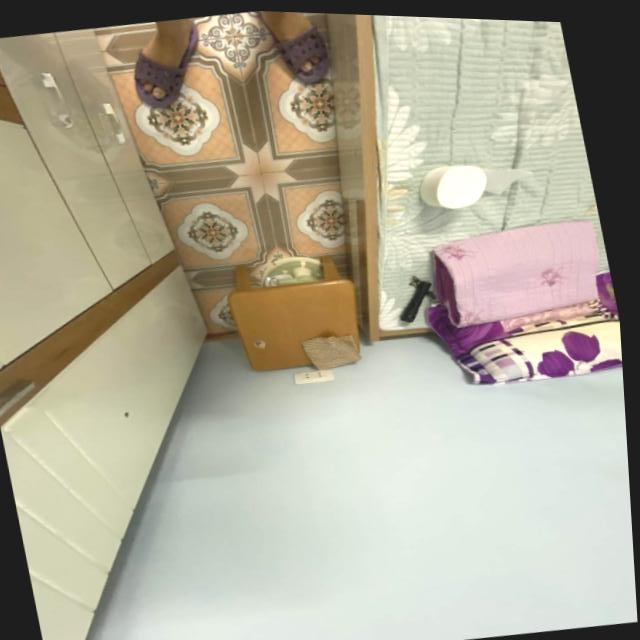outlet: (292, 367, 335, 386)
